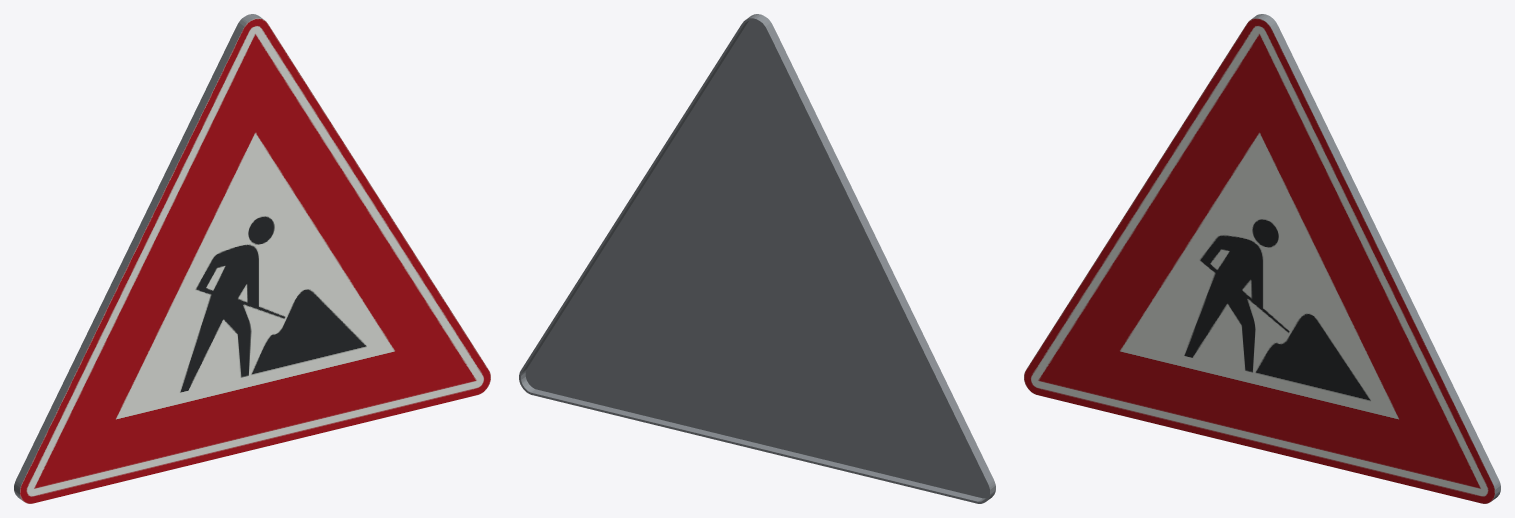
3 renders of one model, left to right at view 1: azimuth 30°, elevation 25°; view 2: azimuth 150°, elevation 25°; view 3: azimuth 330°, elevation 25°, orthographic.
Visible parts, largest first — view 1: J16; view 2: J16; view 3: J16.
Boxes of the visible parts, left/top/right/bottom form: J16: left=14, top=14, right=490, bottom=503; J16: left=519, top=14, right=995, bottom=503; J16: left=1024, top=14, right=1500, bottom=503.
Bounding box in the file's own units: 0.6986 × 0.015 × 0.6104.
Materials: 2 (1 with a texture image).
